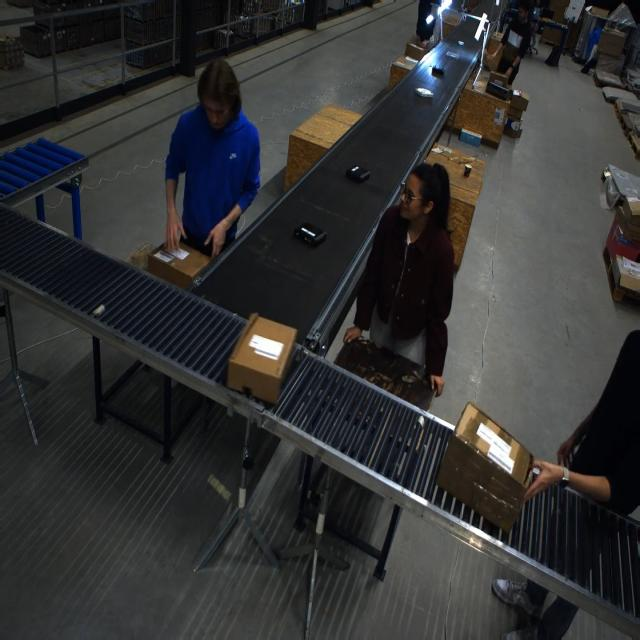box: (435, 403, 533, 529), (225, 313, 297, 403), (145, 240, 211, 289), (508, 87, 529, 114), (404, 41, 428, 61), (487, 70, 509, 91), (503, 117, 523, 139)
product: (293, 223, 326, 247), (413, 86, 442, 107), (346, 165, 371, 184), (431, 66, 445, 75)
